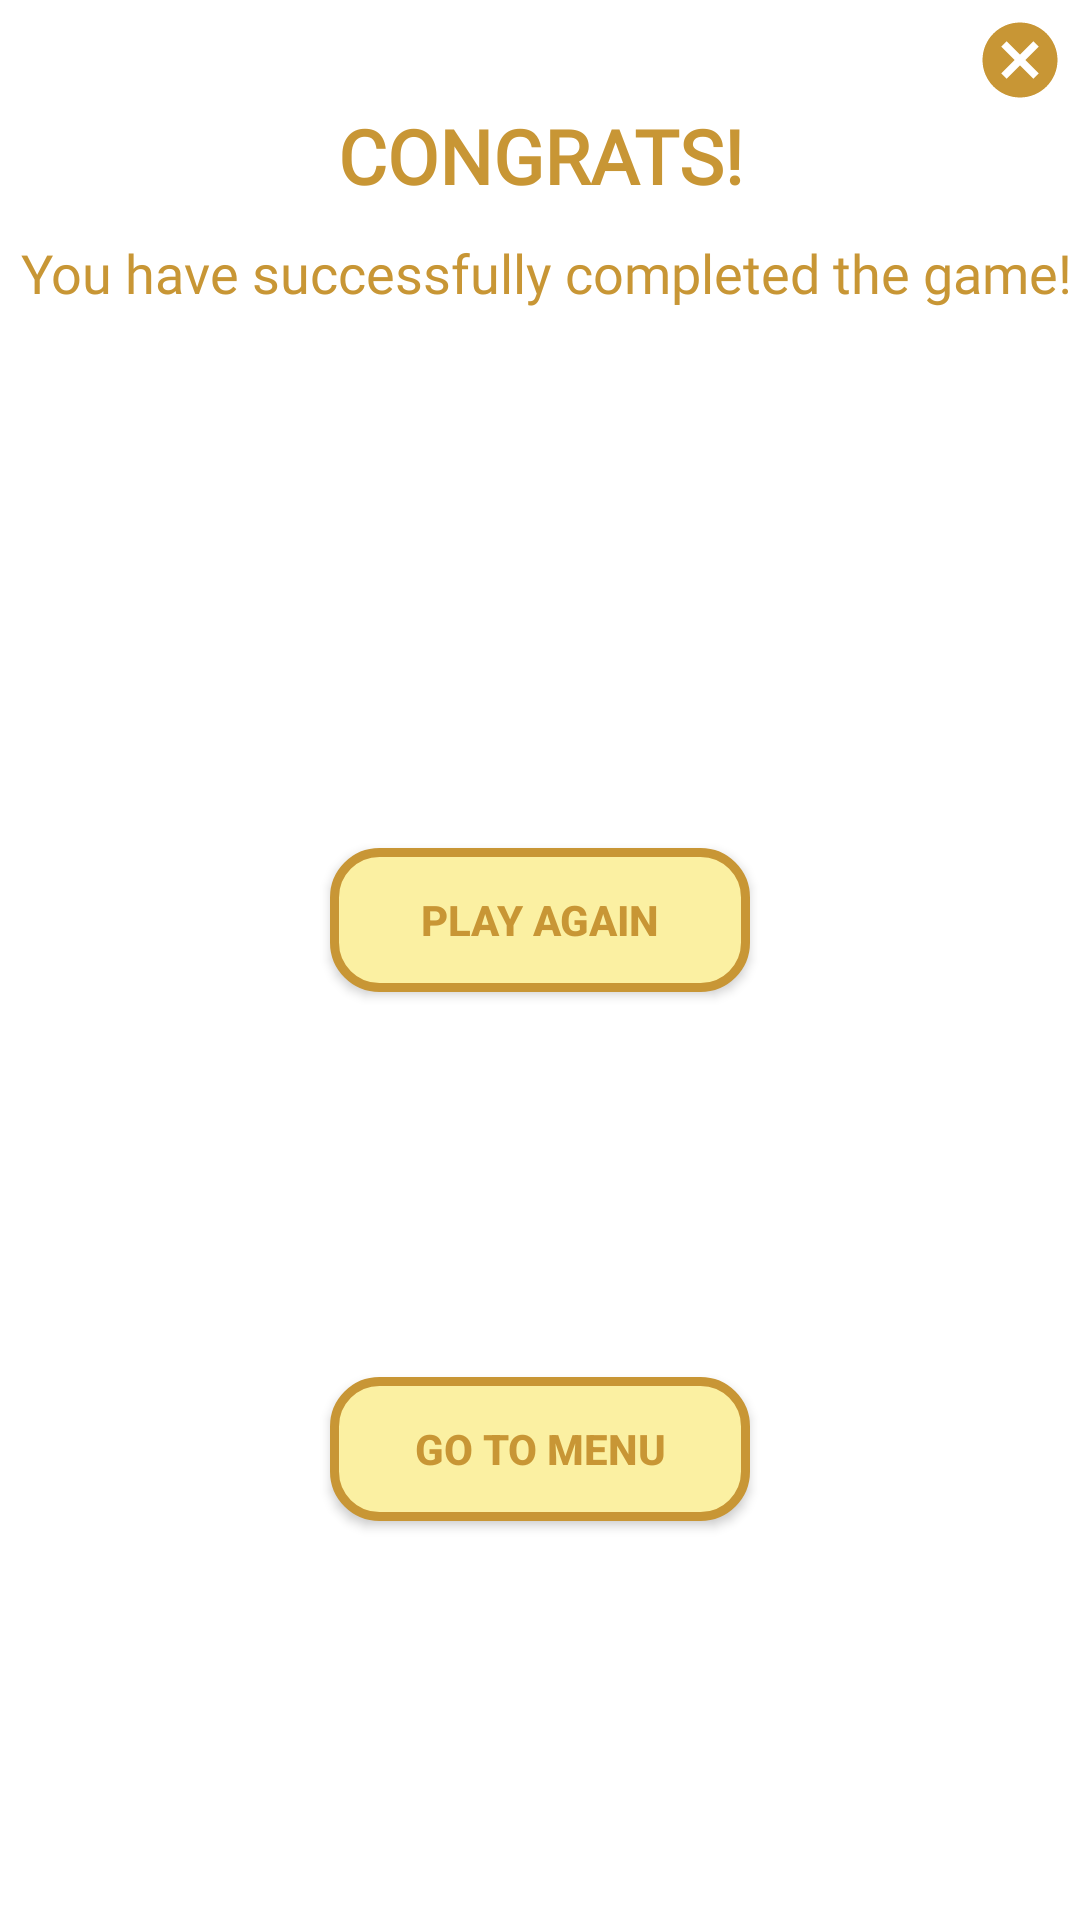

Screen size 1080 x 1920. Icon name, then its center in pixels as [x,y]:
cancel: [1020,60]
